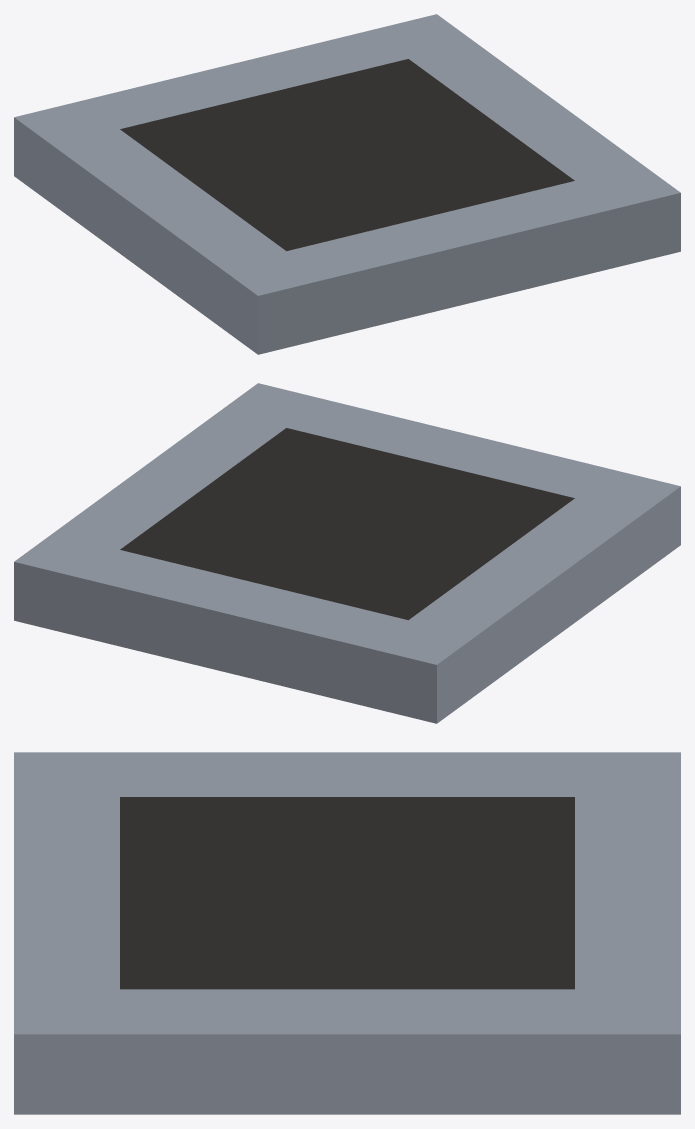
Rendered from Drain.glb.
3 views of the same model, one above another, from view 1: azimuth 30°, elevation 25°; view 2: azimuth 150°, elevation 25°; view 3: azimuth 270°, elevation 25° (orthographic). The views are drawn at different scales.
Visible parts, largest first — view 1: SO_Drain; view 2: SO_Drain; view 3: SO_Drain.
Part boxes in pixels (bbox=[...]): SO_Drain: bbox=[14, 14, 680, 354]; SO_Drain: bbox=[14, 383, 680, 723]; SO_Drain: bbox=[14, 752, 680, 1114].
Size of the model in its own units: 0.0028 by 0.000372 by 0.0028.
1 material, 1 textured.
